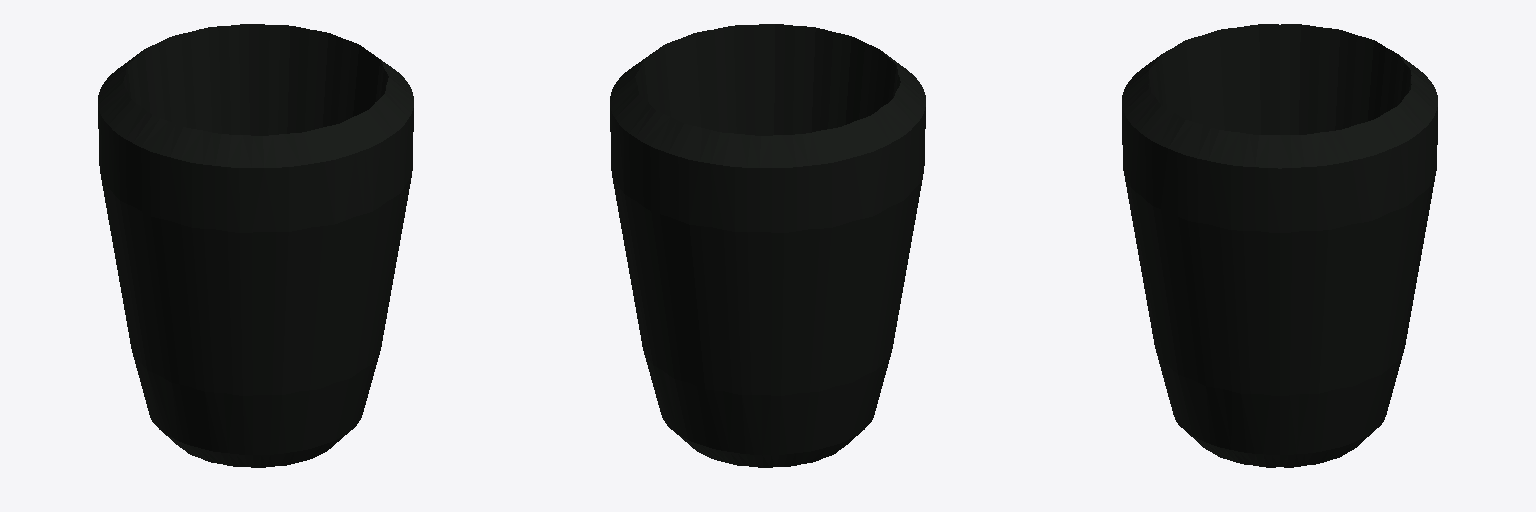
Rendered from trashcan.obj.
The picture shows the model from 3 angles: view 1: azimuth 30°, elevation 25°; view 2: azimuth 150°, elevation 25°; view 3: azimuth 270°, elevation 25°; orthographic projection.
Visible parts, largest first — view 1: trashcan; view 2: trashcan; view 3: trashcan.
Part boxes in pixels (x1,y1,x2,y2): trashcan: (98, 24, 413, 467); trashcan: (610, 24, 925, 467); trashcan: (1122, 24, 1437, 467).
Bounding box in the file's own units: 3.65 × 4.48 × 3.65.